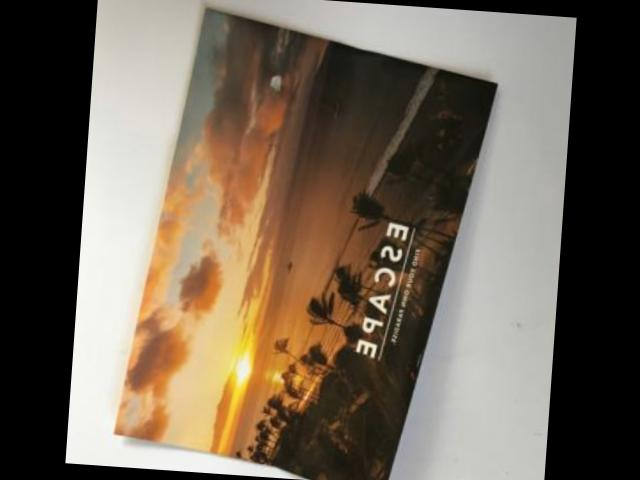cardboard paper: (116, 13, 495, 480)
